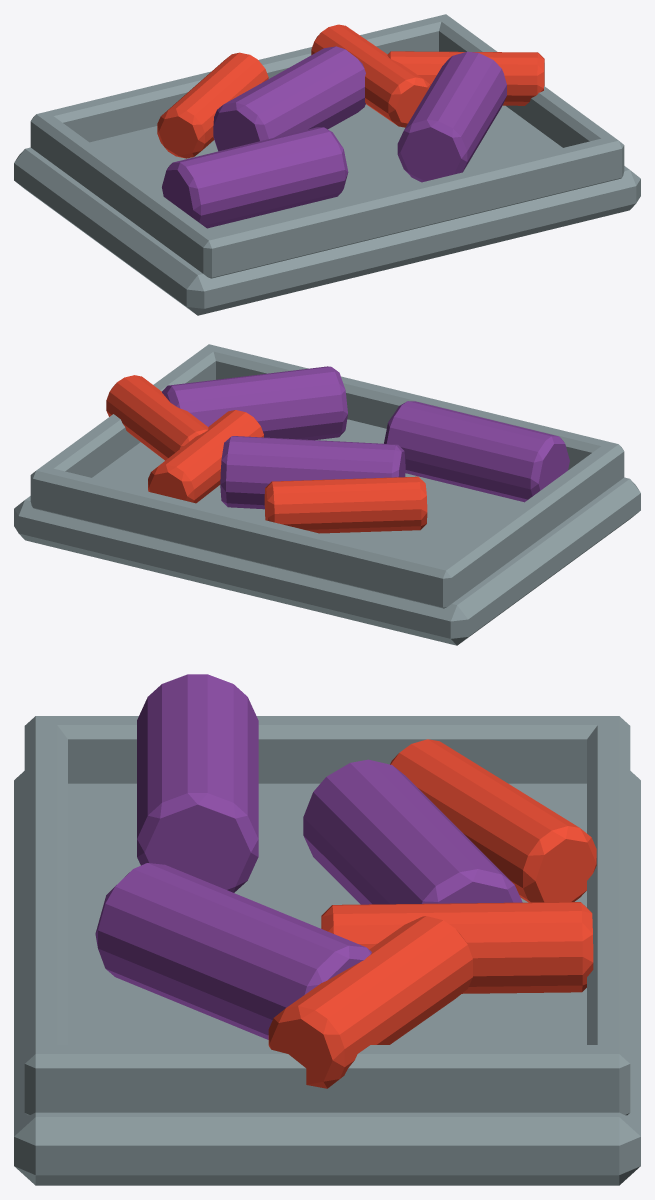
Rendered from skillet_eggplant.glb.
3 renders of one model, top to bottom at view 1: azimuth 30°, elevation 25°; view 2: azimuth 150°, elevation 25°; view 3: azimuth 270°, elevation 25°, orthographic. The views are drawn at different scales.
Visible parts, largest first — view 1: FTF_Dish_GriddledPepperEggplant_StaticMesh; view 2: FTF_Dish_GriddledPepperEggplant_StaticMesh; view 3: FTF_Dish_GriddledPepperEggplant_StaticMesh.
Boxes of the visible parts, <box> form: FTF_Dish_GriddledPepperEggplant_StaticMesh: <box>14,14,640,315</box>; FTF_Dish_GriddledPepperEggplant_StaticMesh: <box>14,344,640,645</box>; FTF_Dish_GriddledPepperEggplant_StaticMesh: <box>14,674,640,1185</box>.
Size of the model in its own units: 0.82 by 0.1862 by 0.58.
